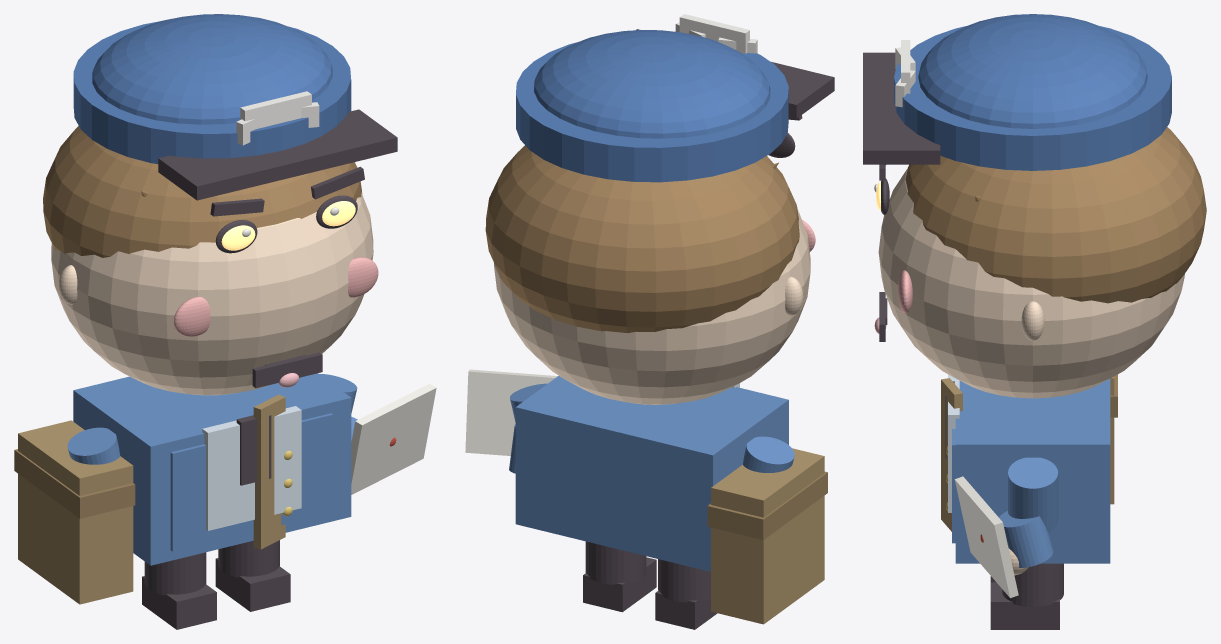
File: courier.glb
The picture shows the model from 3 angles, left to right: view 1: azimuth 30°, elevation 25°; view 2: azimuth 150°, elevation 25°; view 3: azimuth 270°, elevation 25°; orthographic projection.
Visible parts, largest first — view 1: Head, CapDome, HairCap, Coat, Mailbag, CapTop, CapBrim, CoatFront, ShirtFront, Envelope, ShoulderStrap, MailbagFlap (+15 smaller); view 2: HairCap, Coat, Head, CapDome, CapTop, Mailbag, Envelope, MailbagFlap, Leg_R, Shoe_R, Leg_L, CapBrim (+4 smaller); view 3: HairCap, Head, CapDome, Coat, CapTop, CapBrim, Envelope, UpperArm_R, Shoe_R, Forearm_R, Leg_R, ShoulderStrap (+4 smaller).
Boxes of the visible parts, x1,y1,x2,y2 form: Head: (51, 192, 373, 395); CapDome: (92, 14, 332, 124); HairCap: (43, 126, 362, 257); Coat: (73, 373, 351, 565); Mailbag: (18, 420, 133, 604); CapTop: (73, 21, 351, 164); CapBrim: (158, 109, 397, 200); CoatFront: (170, 413, 333, 551); ShirtFront: (202, 406, 301, 530); Envelope: (351, 383, 436, 494); ShoulderStrap: (253, 394, 285, 549); MailbagFlap: (14, 449, 135, 518); HairCap: (485, 145, 799, 333); Coat: (515, 376, 788, 571); Head: (494, 209, 810, 404); CapDome: (534, 30, 770, 138); CapTop: (516, 42, 788, 182); Mailbag: (711, 448, 824, 624); Envelope: (465, 369, 557, 455); MailbagFlap: (707, 471, 827, 540); Leg_R: (585, 541, 646, 584); Shoe_R: (583, 557, 656, 612); Leg_L: (658, 559, 710, 602); CapBrim: (636, 29, 834, 118); HairCap: (905, 127, 1206, 303); Head: (878, 168, 1184, 398); CapDome: (918, 14, 1147, 128); Coat: (955, 379, 1110, 563); CapTop: (894, 26, 1171, 170); CapBrim: (863, 52, 940, 164); Envelope: (954, 476, 1018, 598); UpperArm_R: (1008, 457, 1058, 532); Shoe_R: (990, 582, 1059, 629); Forearm_R: (999, 511, 1053, 567); Leg_R: (1002, 563, 1063, 606); ShoulderStrap: (941, 378, 962, 531).
Bounding box in the file's own units: 1.34 × 2 × 1.11.
